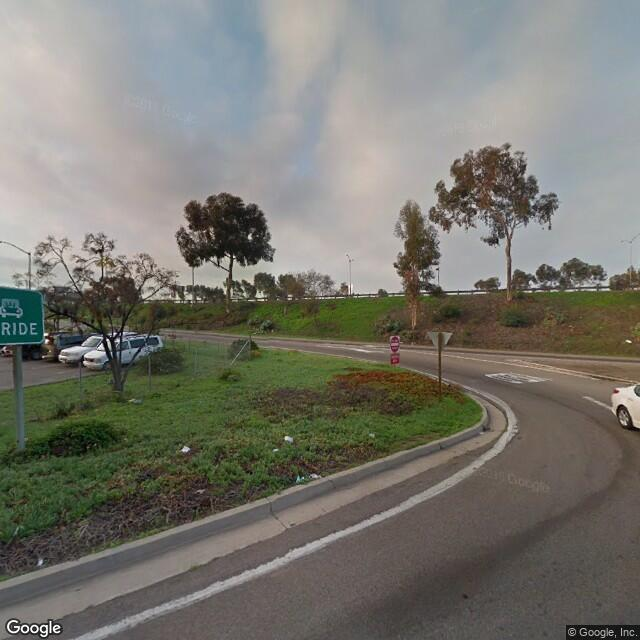litter: (176, 443, 192, 456), (281, 435, 298, 447)
